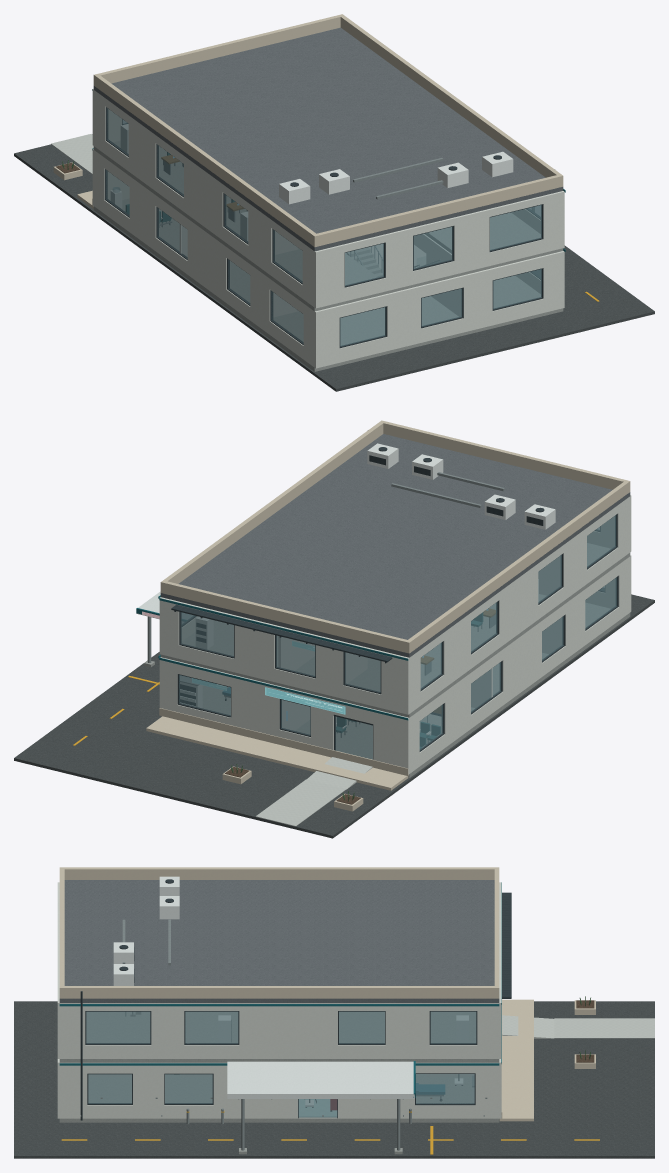
The picture shows the model from 3 angles, top to bottom: view 1: azimuth 30°, elevation 25°; view 2: azimuth 150°, elevation 25°; view 3: azimuth 270°, elevation 25°; orthographic projection.
Visible parts, largest first — view 1: VIS_ROOF_REINFORCED_SLAB, VIS_SITE_ASPHALT, VIS_EXT_BACK_L0, VIS_EXT_BACK_L1, VIS_EXT_WEST_L1, VIS_EXT_WEST_L0, VIS_ROOF_END_PARAPET, VIS_ROOF_SIDE_PARAPET, VIS_REINFORCED_GROUND_SLAB, VIS_EXT_BACK_L1_GLAZING, VIS_EXT_BACK_L0_GLAZING, VIS_EXT_WEST_L1_GLAZING (+7 smaller); view 2: VIS_ROOF_REINFORCED_SLAB, VIS_SITE_ASPHALT, VIS_EXT_WEST_L0, VIS_EXT_WEST_L1, VIS_EXT_FRONT_L1, VIS_EXT_FRONT_L0, VIS_ROOF_END_PARAPET, VIS_ROOF_SIDE_PARAPET, VIS_MAIN_ACCESS_SIDEWALK, VIS_EXT_FRONT_L1_GLAZING, VIS_EXT_FRONT_L0_GLAZING, VIS_REINFORCED_GROUND_SLAB (+18 smaller); view 3: VIS_ROOF_REINFORCED_SLAB, VIS_SITE_ASPHALT, VIS_EXT_EAST_L1, VIS_EXT_EAST_L0, VIS_ROOF_SIDE_PARAPET, VIS_AMBULANCE_CANOPY_ROOF, VIS_EXT_EAST_L1_GLAZING, VIS_UPPER_SLAB_east, VIS_REINFORCED_GROUND_SLAB, VIS_EXT_EAST_L0_GLAZING, VIS_MAIN_ACCESS_SIDEWALK, VIS_FRONT_WALK_ACCESS (+13 smaller).
Boxes of the visible parts, x1,y1,x2,y2 form: VIS_ROOF_REINFORCED_SLAB: (93, 27, 563, 251); VIS_SITE_ASPHALT: (14, 134, 654, 391); VIS_EXT_BACK_L0: (313, 251, 564, 368); VIS_EXT_BACK_L1: (313, 191, 564, 308); VIS_EXT_WEST_L1: (93, 91, 314, 306); VIS_EXT_WEST_L0: (94, 151, 314, 366); VIS_ROOF_END_PARAPET: (93, 14, 563, 247); VIS_ROOF_SIDE_PARAPET: (93, 15, 562, 246); VIS_REINFORCED_GROUND_SLAB: (93, 199, 563, 371); VIS_EXT_BACK_L1_GLAZING: (345, 205, 541, 285); VIS_EXT_BACK_L0_GLAZING: (340, 269, 541, 346); VIS_EXT_WEST_L1_GLAZING: (107, 108, 302, 282); VIS_ROOF_REINFORCED_SLAB: (160, 434, 630, 657); VIS_SITE_ASPHALT: (14, 594, 654, 838); VIS_EXT_WEST_L0: (409, 556, 630, 772); VIS_EXT_WEST_L1: (409, 496, 630, 712); VIS_EXT_FRONT_L1: (159, 597, 410, 714); VIS_EXT_FRONT_L0: (159, 657, 410, 774); VIS_ROOF_END_PARAPET: (160, 420, 630, 653); VIS_ROOF_SIDE_PARAPET: (160, 420, 630, 652); VIS_MAIN_ACCESS_SIDEWALK: (146, 716, 408, 790); VIS_EXT_FRONT_L1_GLAZING: (180, 612, 380, 692); VIS_EXT_FRONT_L0_GLAZING: (179, 675, 372, 759); VIS_REINFORCED_GROUND_SLAB: (160, 603, 630, 778); VIS_ROOF_REINFORCED_SLAB: (59, 880, 499, 1002); VIS_SITE_ASPHALT: (14, 1001, 654, 1158); VIS_EXT_EAST_L1: (59, 1003, 499, 1058); VIS_EXT_EAST_L0: (60, 1062, 499, 1118); VIS_ROOF_SIDE_PARAPET: (59, 867, 499, 998); VIS_AMBULANCE_CANOPY_ROOF: (227, 1061, 414, 1098); VIS_EXT_EAST_L1_GLAZING: (86, 1011, 476, 1043); VIS_UPPER_SLAB_east: (59, 1017, 499, 1062); VIS_REINFORCED_GROUND_SLAB: (59, 1012, 499, 1122); VIS_EXT_EAST_L0_GLAZING: (88, 1074, 474, 1117); VIS_MAIN_ACCESS_SIDEWALK: (499, 999, 533, 1121); VIS_FRONT_WALK_ACCESS: (554, 1018, 654, 1038).
Size of the model in its own units: 20 by 8.48 by 35.
Materials: 31 (31 with a texture image).
